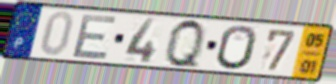0: (38, 10, 77, 58)
4: (122, 16, 160, 66)
7: (266, 28, 296, 72)
E: (69, 14, 120, 61)
O: (215, 24, 260, 72)
Q: (164, 17, 207, 72)
